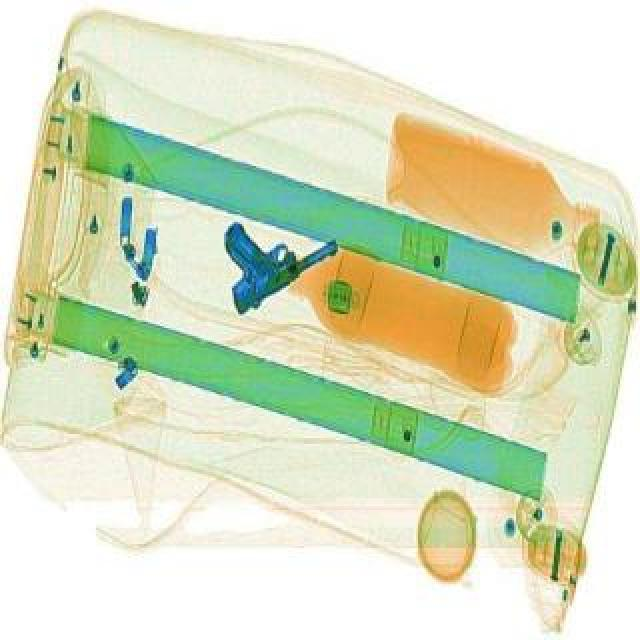gun: (190, 182, 346, 314)
